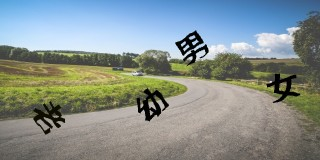女: (265, 73, 300, 103)
幼: (136, 88, 168, 122)
男: (175, 30, 209, 65)
老: (32, 101, 66, 135)
